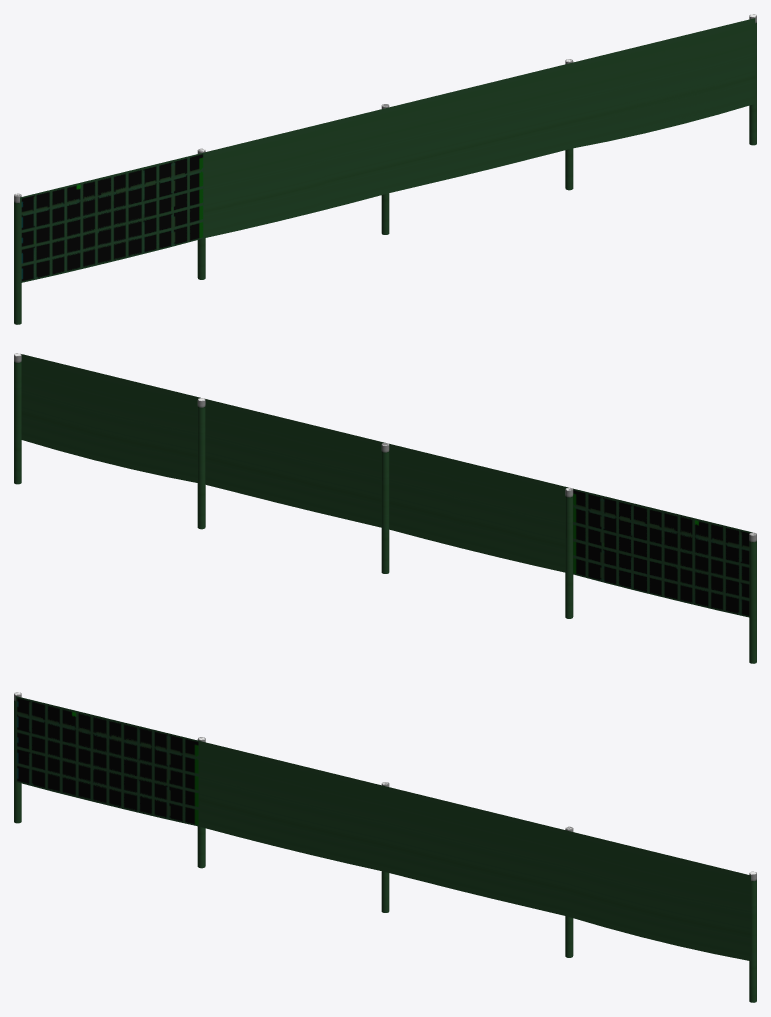
File: objects_un_netfence01.gltf
The picture shows the model from 3 angles, top to bottom: view 1: azimuth 30°, elevation 25°; view 2: azimuth 150°, elevation 25°; view 3: azimuth 330°, elevation 25°; orthographic projection.
Visible parts, largest first — view 1: um_objects_un_netfence01_model_lod1Shape:objects_un_netfence, um_objects_un_netfence01_model_lod0Shape:objects_un_netfence, um_objects_un_netfence01_model_lod2Shape:objects_un_netfence; view 2: um_objects_un_netfence01_model_lod0Shape:objects_un_netfence, um_objects_un_netfence01_model_lod1Shape:objects_un_netfence, um_objects_un_netfence01_model_lod2Shape:objects_un_netfence; view 3: um_objects_un_netfence01_model_lod0Shape:objects_un_netfence, um_objects_un_netfence01_model_lod1Shape:objects_un_netfence, um_objects_un_netfence01_model_lod2Shape:objects_un_netfence.
Part boxes in pixels (x1,y1,x2,y2): um_objects_un_netfence01_model_lod1Shape:objects_un_netfence: [14, 18, 755, 281]; um_objects_un_netfence01_model_lod0Shape:objects_un_netfence: [14, 14, 756, 324]; um_objects_un_netfence01_model_lod2Shape:objects_un_netfence: [16, 18, 755, 324]; um_objects_un_netfence01_model_lod0Shape:objects_un_netfence: [14, 353, 756, 663]; um_objects_un_netfence01_model_lod1Shape:objects_un_netfence: [21, 354, 755, 616]; um_objects_un_netfence01_model_lod2Shape:objects_un_netfence: [21, 354, 199, 481]; um_objects_un_netfence01_model_lod0Shape:objects_un_netfence: [14, 692, 756, 1002]; um_objects_un_netfence01_model_lod1Shape:objects_un_netfence: [15, 694, 750, 960]; um_objects_un_netfence01_model_lod2Shape:objects_un_netfence: [15, 693, 750, 960].
Size of the model in its own units: 7.27 by 1.2 by 0.0725.
2 materials, 1 textured.
